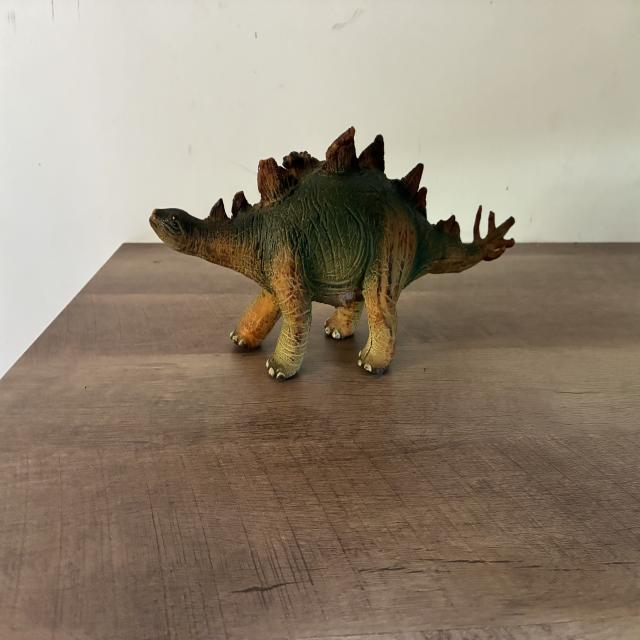dinosaur: (150, 127, 515, 381)
